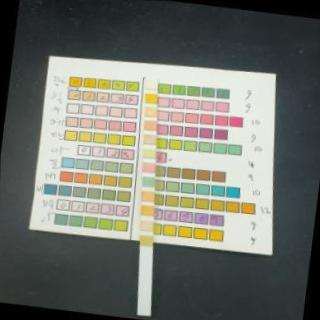mark: (143, 120, 156, 132), (140, 220, 152, 232), (142, 162, 154, 174), (144, 133, 156, 145), (140, 236, 153, 247), (144, 94, 158, 104), (140, 206, 152, 217), (141, 191, 153, 202), (141, 176, 153, 187), (145, 79, 158, 89), (144, 106, 156, 116), (143, 148, 154, 158)
